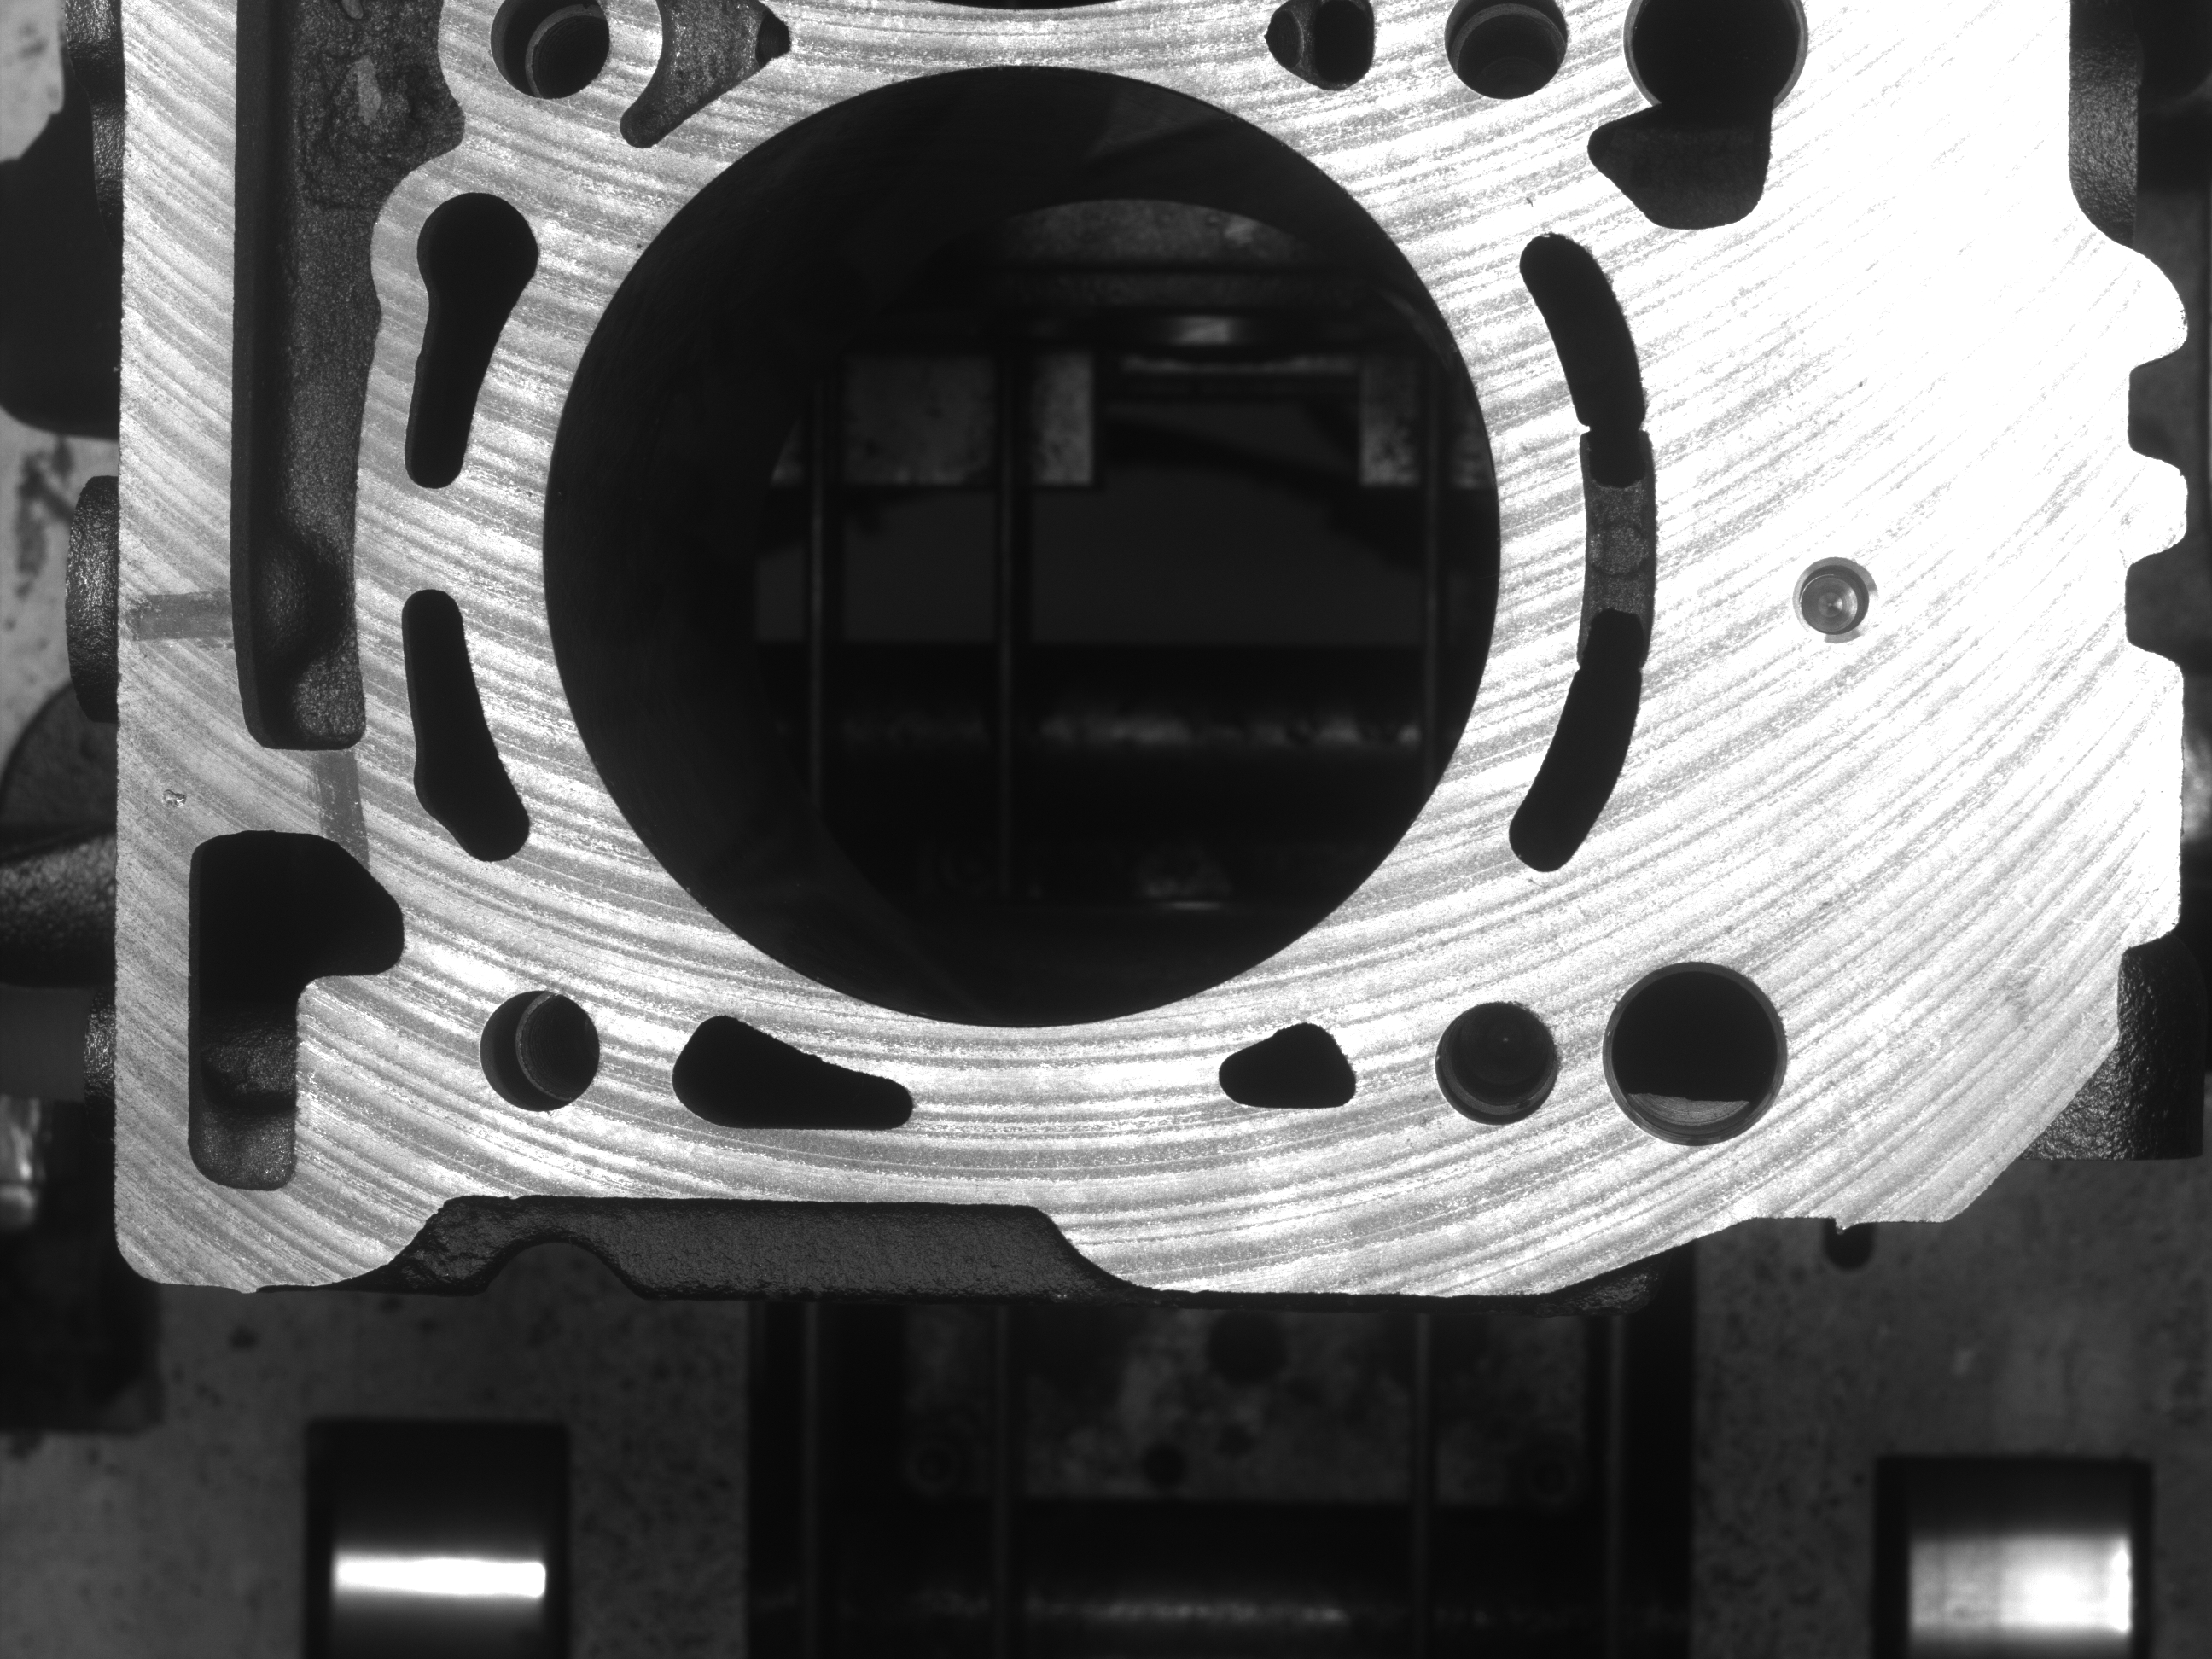shrinkage: (138, 781, 200, 821)
